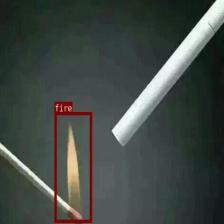fire: (54, 112, 92, 222)
